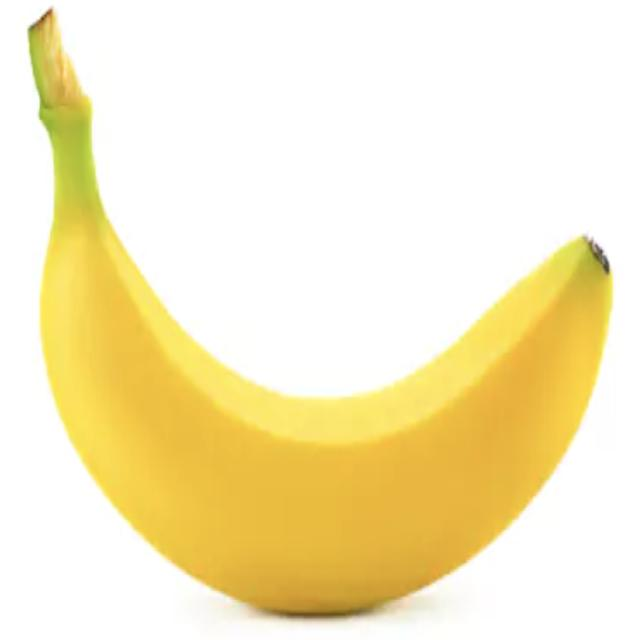fresh-banana: (26, 4, 614, 616)
